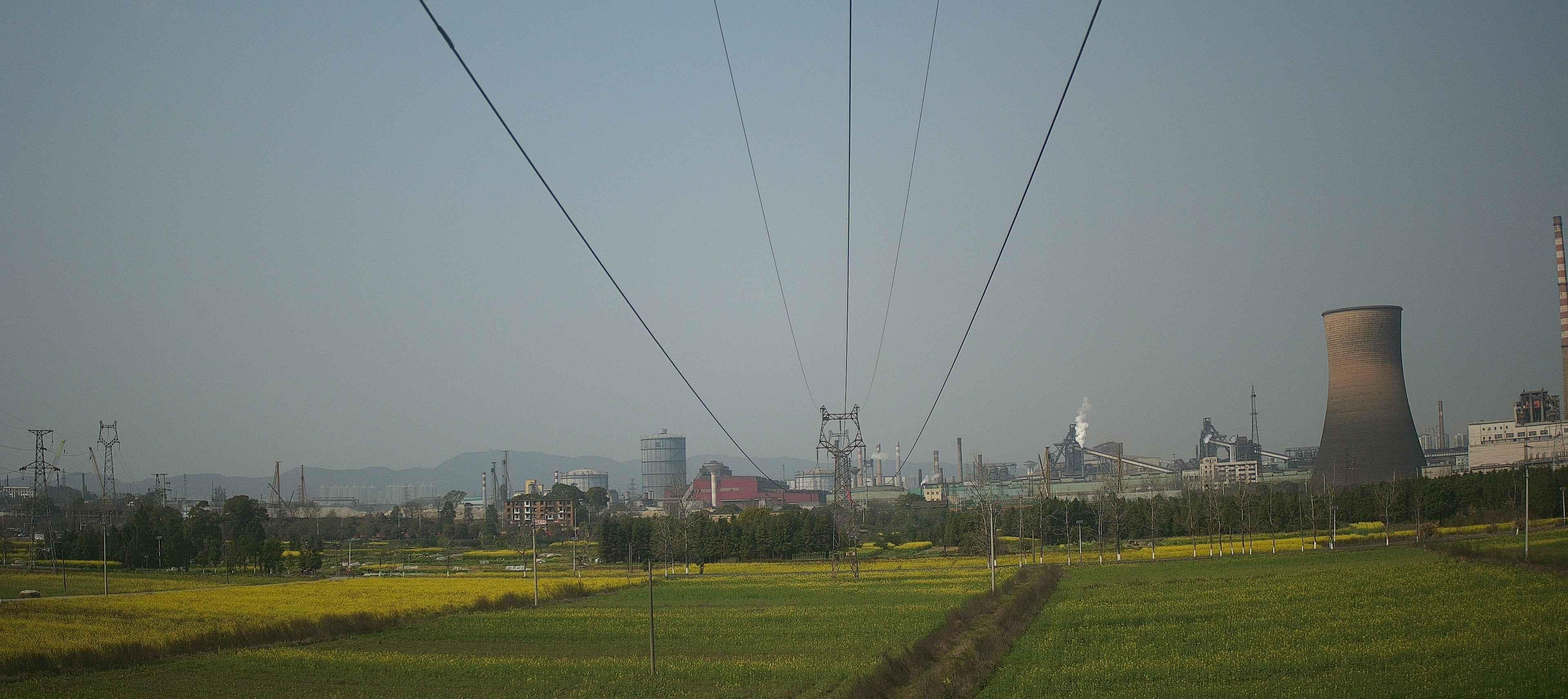工厂排烟: (1074, 396, 1091, 449), (871, 450, 889, 461), (931, 471, 942, 482), (920, 474, 929, 486)
